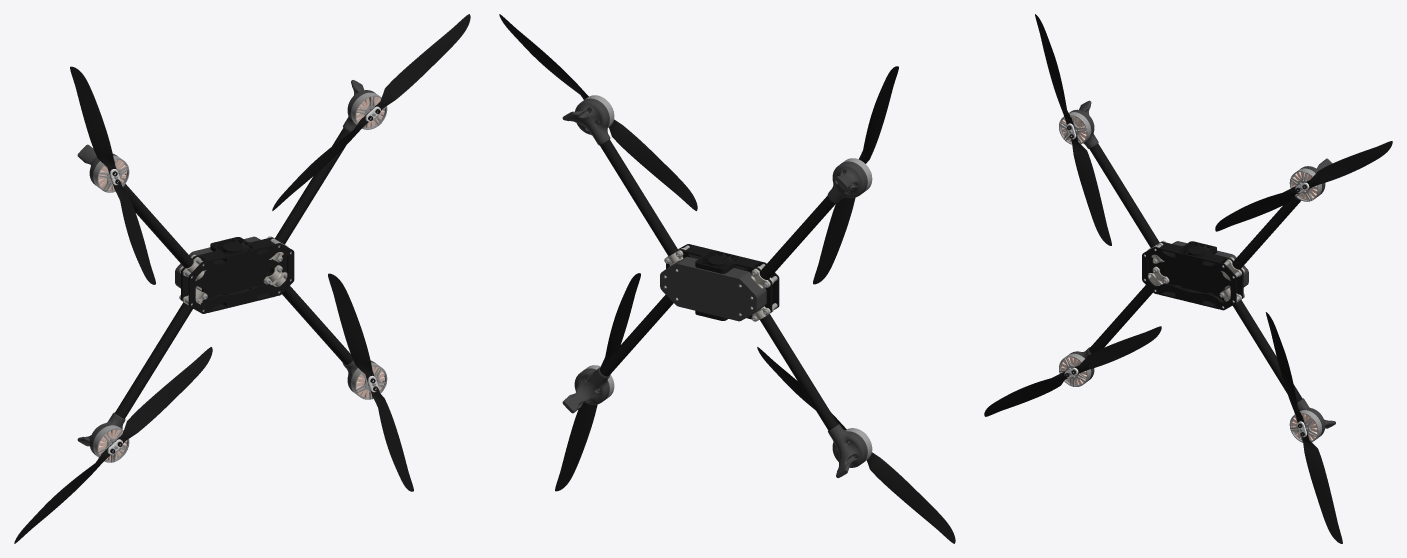
The model's file is GeneralDrone.glb.
3 renders of one model, left to right at view 1: azimuth 30°, elevation 25°; view 2: azimuth 150°, elevation 25°; view 3: azimuth 330°, elevation 25°, orthographic. The views are drawn at different scales.
Parts seen in each view (by area): view 1: Component10:1, Component10:1_1, Component10:1_3, Component10:1_2, CenterCarbon:1, Pocketted CF TopPlate:1, CarbonArmRod:1_1, CarbonArmRod:1, CarbonArmRod:1_2, CarbonArmRod:1_3, SideElectronicsMount:1, M4006_01_Rotor:1_1 (+4 smaller); view 2: BottomCarriageCover:1, Component10:1, Component10:1_3, Component10:1_2, Component10:1_1, CarbonArmRod:1, CarbonArmRod:1_1, MotorMount:1_2, MotorMount:1_1, CarbonArmRod:1_3, MotorMount:1, CarbonArmRod:1_2 (+2 smaller); view 3: Component10:1_3, Component10:1_2, Component10:1, Component10:1_1, CenterCarbon:1, Pocketted CF TopPlate:1, CarbonArmRod:1_3, CarbonArmRod:1_2, CarbonArmRod:1, CarbonArmRod:1_1, SideElectronicsMount:1, M4006_01_Rotor:1_3.
Boxes of the visible parts, x1,y1,x2,y2 form: Component10:1: [272, 14, 470, 210]; Component10:1_1: [14, 347, 212, 543]; Component10:1_3: [70, 66, 155, 284]; Component10:1_2: [328, 273, 413, 491]; CenterCarbon:1: [181, 237, 287, 305]; Pocketted CF TopPlate:1: [188, 243, 294, 313]; CarbonArmRod:1_1: [115, 287, 202, 418]; CarbonArmRod:1: [272, 127, 350, 259]; CarbonArmRod:1_2: [266, 267, 352, 364]; CarbonArmRod:1_3: [124, 184, 193, 268]; SideElectronicsMount:1: [199, 237, 275, 265]; M4006_01_Rotor:1_1: [93, 425, 129, 462]; BottomCarriageCover:1: [660, 256, 766, 321]; Component10:1: [499, 14, 697, 210]; Component10:1_3: [813, 66, 898, 284]; Component10:1_2: [555, 273, 640, 491]; Component10:1_1: [757, 347, 955, 543]; CarbonArmRod:1: [600, 139, 678, 256]; CarbonArmRod:1_1: [760, 314, 838, 430]; MotorMount:1_2: [562, 366, 610, 413]; MotorMount:1_1: [828, 424, 867, 477]; CarbonArmRod:1_3: [759, 196, 835, 279]; MotorMount:1: [562, 98, 610, 145]; CarbonArmRod:1_2: [599, 294, 673, 376]; Component10:1_3: [1035, 14, 1111, 245]; Component10:1_2: [1265, 312, 1342, 543]; Component10:1: [1215, 141, 1392, 231]; Component10:1_1: [984, 326, 1161, 416]; CenterCarbon:1: [1148, 241, 1243, 302]; Pocketted CF TopPlate:1: [1142, 246, 1236, 310]; CarbonArmRod:1_3: [1089, 143, 1159, 247]; CarbonArmRod:1_2: [1223, 286, 1302, 402]; CarbonArmRod:1: [1232, 197, 1300, 269]; CarbonArmRod:1_1: [1089, 269, 1166, 353]; SideElectronicsMount:1: [1158, 241, 1226, 267]; M4006_01_Rotor:1_3: [1059, 112, 1091, 144].
Bounding box in the file's own units: 0.6249 × 0.6657 × 0.062.
